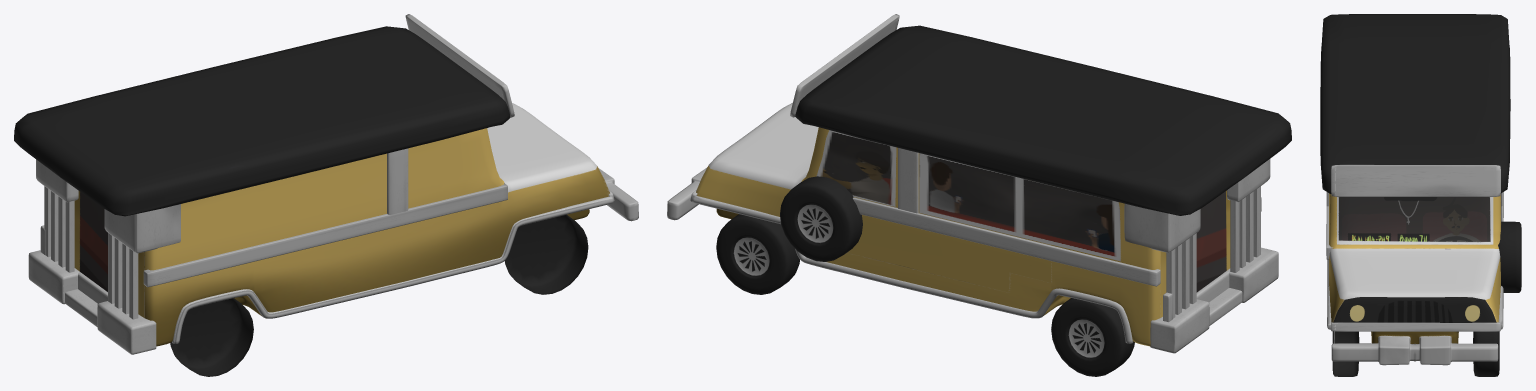
The model's file is jeep.fbx.
3 views of the same model, side by side, from view 1: azimuth 30°, elevation 25°; view 2: azimuth 150°, elevation 25°; view 3: azimuth 270°, elevation 25° (orthographic). The views are drawn at different scales.
Visible parts, largest first — view 1: Cylinder.004, gulong2, gulong3; view 2: Cylinder.004, Gulong1, gulong4; view 3: Cylinder.004, Gulong1, gulong2.
Boxes of the visible parts, x1,y1,x2,y2 form: Cylinder.004: (14,14,638,354); gulong2: (504,214,588,294); gulong3: (170,298,253,376); Cylinder.004: (667,14,1291,353); Gulong1: (716,214,799,294); gulong4: (1051,298,1134,376); Cylinder.004: (1320,14,1521,365); Gulong1: (1473,331,1499,376); gulong2: (1332,331,1359,376).
Size of the model in its own units: 1085 by 431 by 417.
32 materials, 32 textured.
